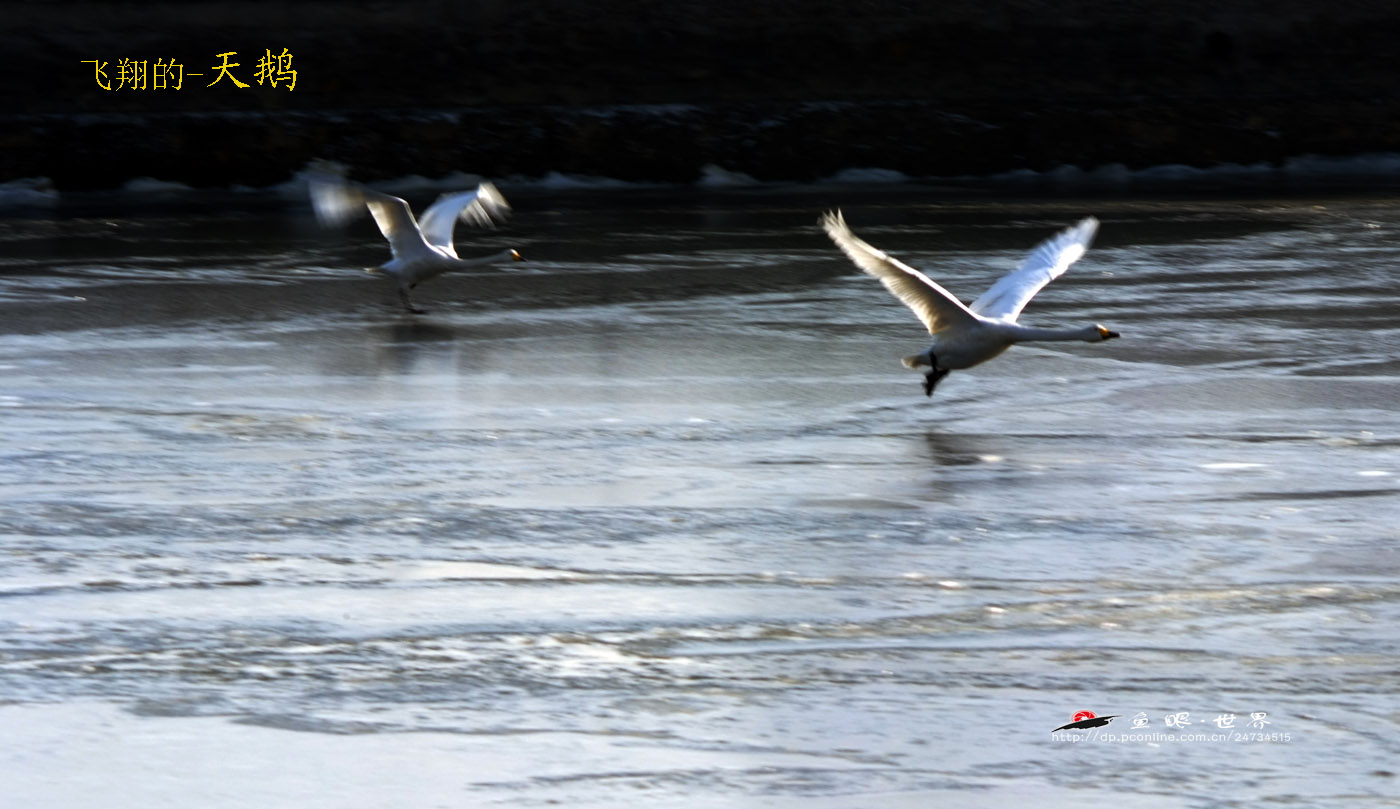bird: (812, 196, 1124, 400), (282, 171, 519, 317)
